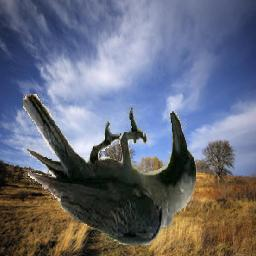Crow: (24, 95, 197, 246)
